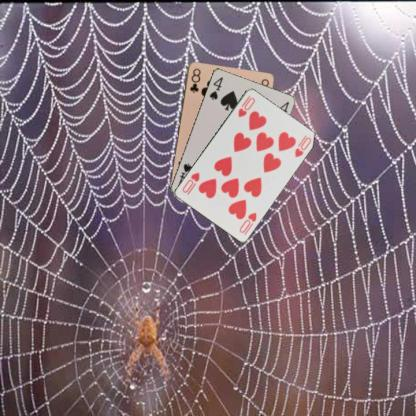10h: (235, 92, 257, 118), (237, 210, 258, 234)
4s: (207, 74, 224, 101)
8c: (187, 66, 202, 94)
